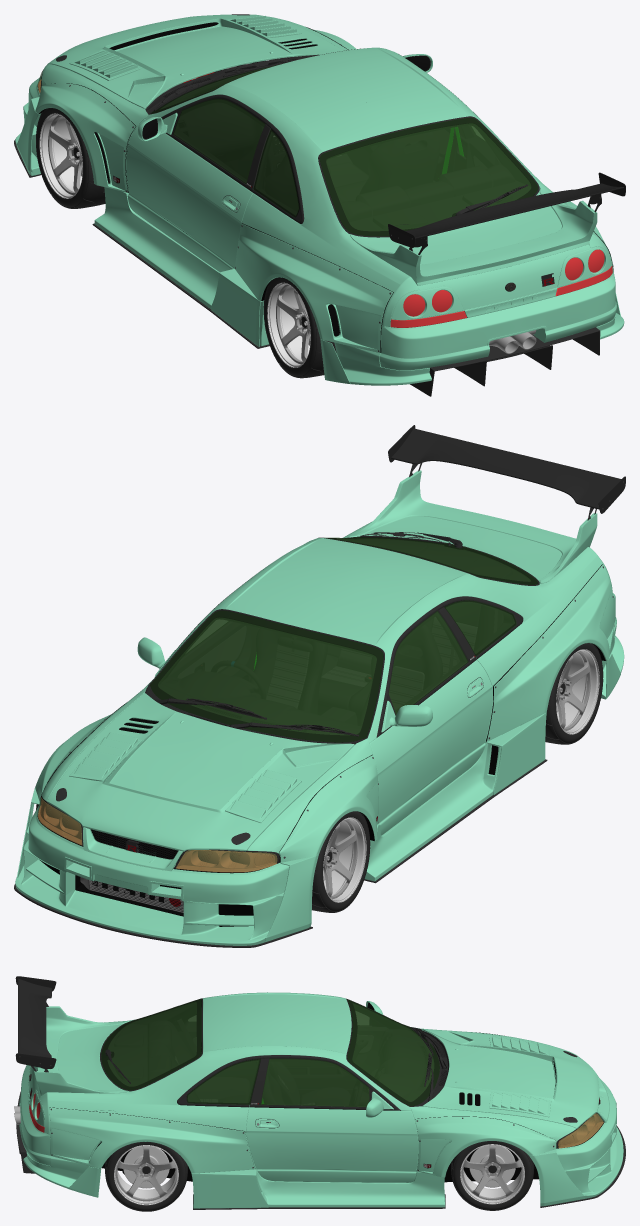
The model's file is skyline-r33.glb.
The picture shows the model from 3 angles, top to bottom: view 1: azimuth 30°, elevation 25°; view 2: azimuth 150°, elevation 25°; view 3: azimuth 270°, elevation 25°; orthographic projection. The views are drawn at different scales.
Visible parts, largest first — view 1: Object_30, Object_19, Object_25, Object_34, Object_37, Object_32, Object_28, Object_24, Object_35, Object_40, Object_42, Object_58 (+21 smaller); view 2: Object_30, Object_19, Object_34, Object_25, Object_33, Object_24, Object_32, Object_58, Object_42, Object_40, Object_27, Object_35 (+19 smaller); view 3: Object_30, Object_19, Object_25, Object_34, Object_32, Object_24, Object_40, Object_42, Object_33, Object_28, Object_58, Object_39 (+23 smaller).
Boxes of the visible parts, bbox=[...] form: Object_30: bbox=[41, 16, 613, 352]; Object_19: bbox=[150, 64, 537, 235]; Object_25: bbox=[161, 72, 530, 230]; Object_34: bbox=[47, 14, 343, 108]; Object_37: bbox=[379, 271, 616, 370]; Object_32: bbox=[235, 201, 613, 352]; Object_28: bbox=[180, 51, 589, 310]; Object_24: bbox=[40, 48, 541, 291]; Object_35: bbox=[350, 187, 597, 285]; Object_40: bbox=[94, 187, 268, 346]; Object_42: bbox=[35, 29, 356, 192]; Object_58: bbox=[388, 172, 625, 247]; Object_30: bbox=[41, 521, 612, 862]; Object_19: bbox=[150, 537, 537, 742]; Object_34: bbox=[47, 692, 354, 851]; Object_25: bbox=[158, 538, 530, 734]; Object_33: bbox=[15, 805, 289, 945]; Object_24: bbox=[40, 532, 539, 912]; Object_32: bbox=[487, 564, 614, 741]; Object_58: bbox=[388, 425, 625, 513]; Object_42: bbox=[35, 711, 378, 862]; Object_40: bbox=[364, 742, 501, 881]; Object_27: bbox=[178, 617, 477, 709]; Object_35: bbox=[350, 470, 597, 583]; Object_30: bbox=[28, 992, 575, 1182]; Object_19: bbox=[101, 999, 439, 1106]; Object_25: bbox=[107, 1002, 433, 1105]; Object_34: bbox=[422, 1029, 599, 1128]; Object_32: bbox=[49, 1107, 255, 1173]; Object_24: bbox=[30, 998, 603, 1148]; Object_40: bbox=[256, 1169, 445, 1207]; Object_42: bbox=[415, 1116, 556, 1177]; Object_33: bbox=[538, 1078, 623, 1198]; Object_28: bbox=[29, 1023, 458, 1101]; Object_58: bbox=[15, 976, 56, 1068]; Object_39: bbox=[191, 1169, 267, 1208].
Bounding box in the file's own units: 2.01 × 1.27 × 4.81.
Materials: 37 (10 with a texture image).
